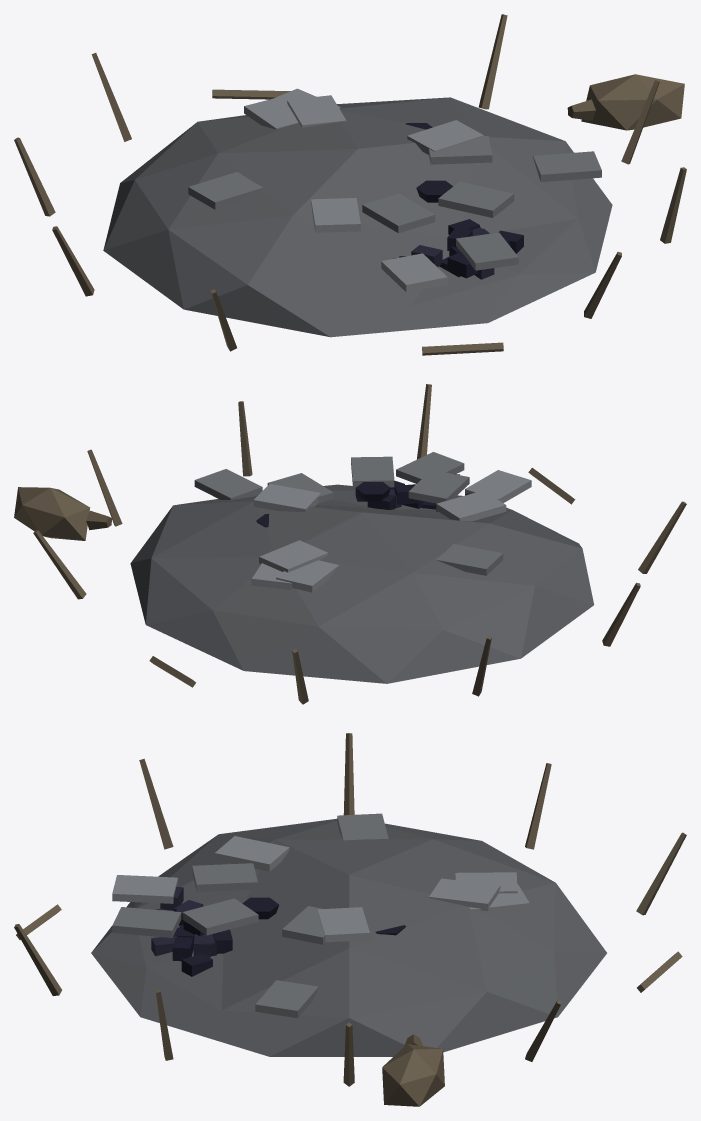
File: clamp_spent.glb
The picture shows the model from 3 angles, top to bottom: view 1: azimuth 30°, elevation 25°; view 2: azimuth 150°, elevation 25°; view 3: azimuth 270°, elevation 25°; orthographic projection. The views are drawn at different scales.
Visible parts, largest first — view 1: silverfog_d55, driftwood_d50, silverfog_d45, silverfog_d35, ink_d5, ink_d10, ink_l5; view 2: silverfog_d55, driftwood_d50, silverfog_d45, silverfog_d35, ink_d5, ink_d10; view 3: silverfog_d55, driftwood_d50, silverfog_d45, silverfog_d35, ink_d5, ink_l5, ink_d10.
Boxes of the visible parts, box(x1,y1,x2,y2) form: silverfog_d55: box(103, 97, 612, 337); driftwood_d50: box(14, 14, 686, 355); silverfog_d45: box(188, 136, 601, 270); silverfog_d35: box(244, 88, 483, 292); ink_d5: box(439, 219, 523, 278); ink_d10: box(405, 123, 452, 202); ink_l5: box(393, 227, 494, 279); silverfog_d55: box(130, 484, 593, 683); driftwood_d50: box(14, 384, 686, 704); silverfog_d45: box(194, 452, 503, 575); silverfog_d35: box(251, 470, 531, 592); ink_d5: box(355, 474, 459, 509); ink_d10: box(256, 482, 390, 527); silverfog_d55: box(91, 818, 606, 1056); driftwood_d50: box(14, 733, 686, 1106); silverfog_d45: box(112, 813, 388, 1018); silverfog_d35: box(112, 836, 529, 942); ink_d5: box(155, 909, 232, 976); ink_l5: box(151, 886, 216, 957); ink_d10: box(242, 897, 405, 935).
Size of the model in its own units: 4.67 by 0.5537 by 4.17.
